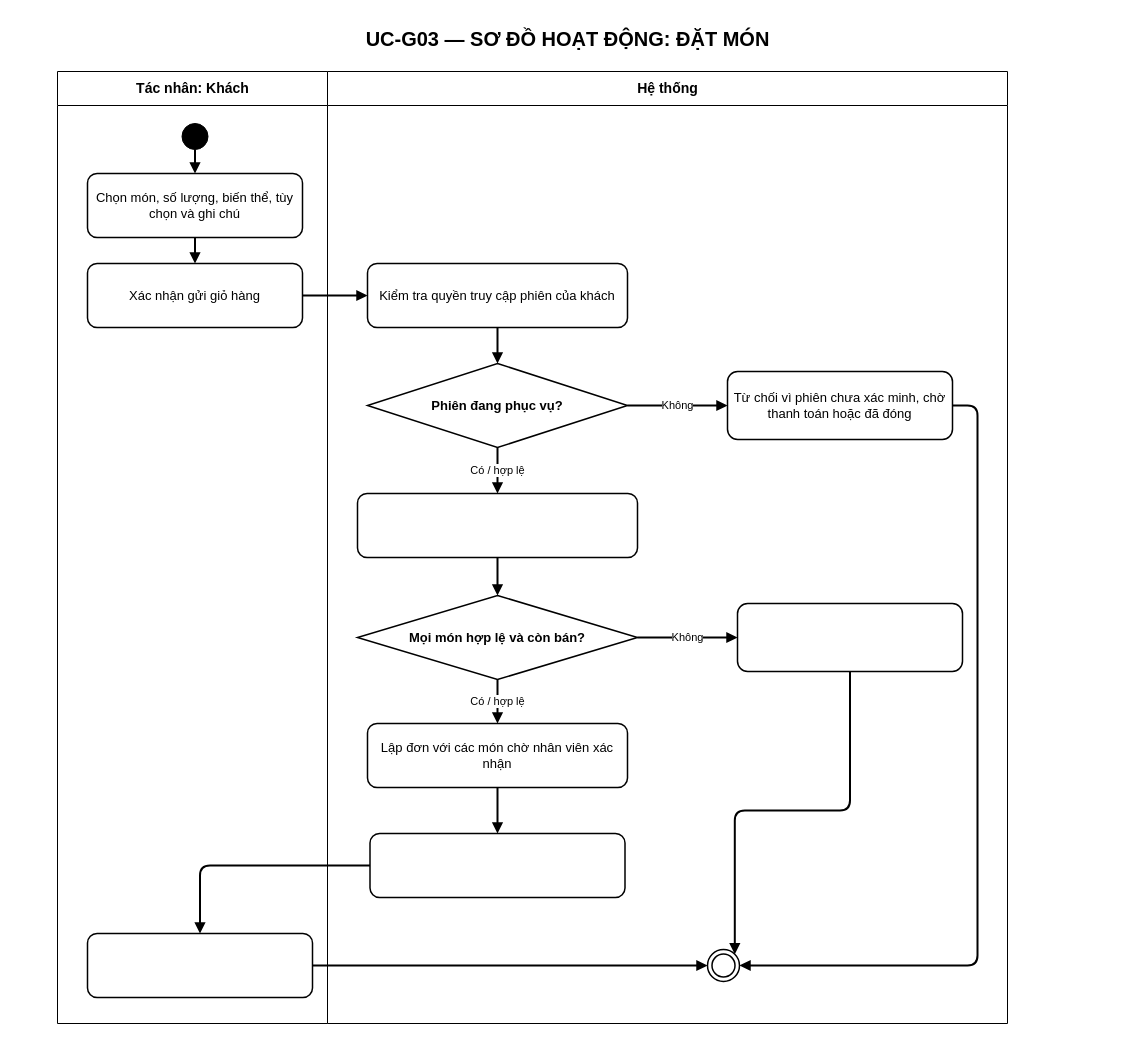
The diagram is 1134 pixels wide and 1041 high, and some of its shapes have lost their labels. Here are the shapes that lost their labels. From the top down, the centre of each, then its label:
the point at 497,525: Kiểm từng món và ghi lại giá tại thời điểm gọi
the point at 849,637: Báo lỗi từng dòng; giữ giỏ để khách sửa lại
the point at 497,865: Báo nhân viên có đơn mới cần xác nhận
the point at 199,965: Nhận mã đơn và chuyển sang theo dõi trạng thái
